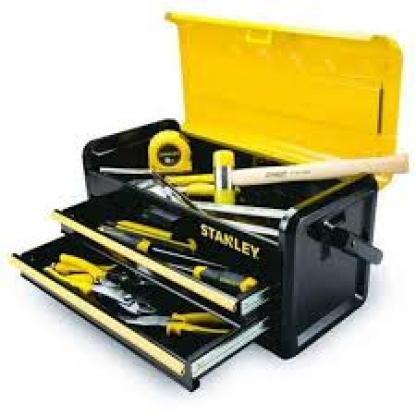Tool Box: (6, 3, 411, 396)
